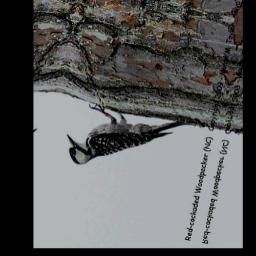Woodpecker: (60, 97, 198, 185)
